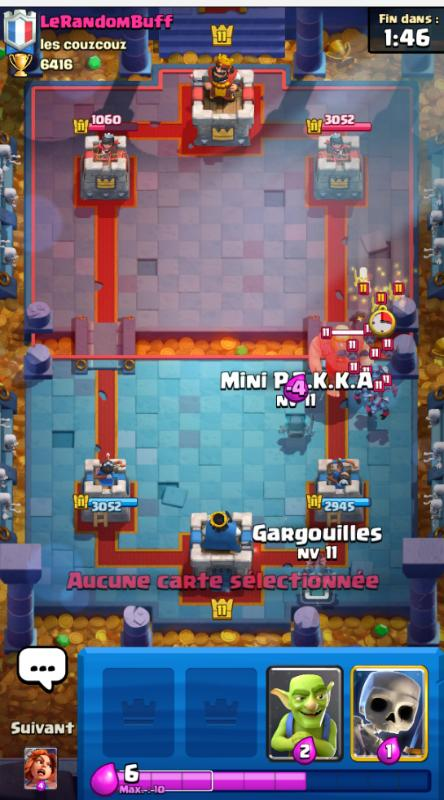gargouille: (340, 355, 397, 423)
geant: (302, 332, 375, 388)
mini_PEKKA: (277, 407, 319, 443)
squelette: (352, 272, 411, 312)
